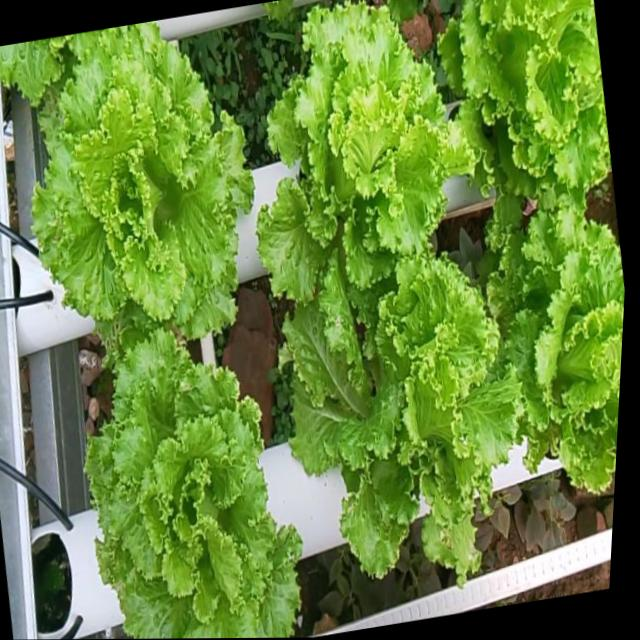Mature: (0, 21, 253, 359), (282, 249, 519, 576), (256, 0, 471, 328), (83, 329, 300, 639), (490, 214, 625, 492), (439, 0, 611, 209)
